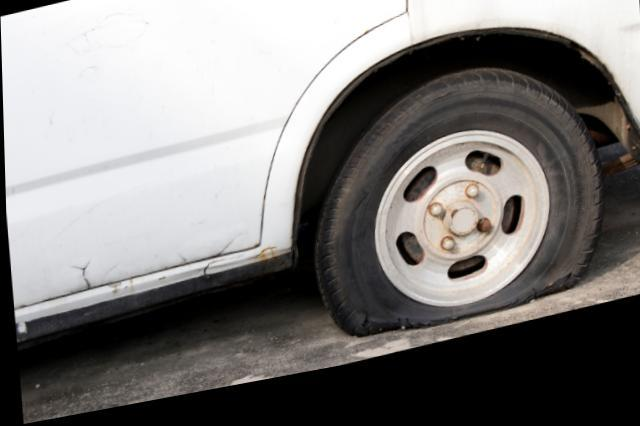tire flat: (314, 85, 599, 353)
